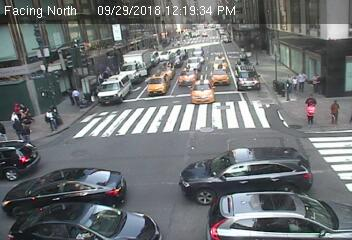car: (180, 144, 314, 195), (208, 192, 349, 240), (9, 200, 165, 239), (3, 167, 126, 210), (1, 138, 39, 181), (96, 74, 132, 103), (121, 50, 154, 81), (189, 77, 216, 102), (236, 62, 260, 90), (145, 73, 170, 93), (177, 65, 200, 84), (212, 67, 228, 83), (212, 54, 228, 69), (185, 57, 201, 71), (190, 45, 206, 57), (160, 48, 170, 61), (223, 33, 235, 42)
